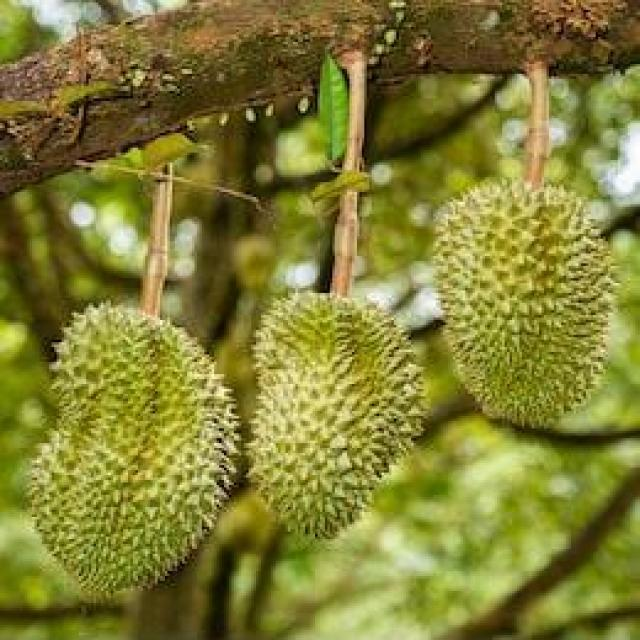immature: (28, 300, 240, 598), (433, 172, 620, 430), (248, 290, 430, 542)
